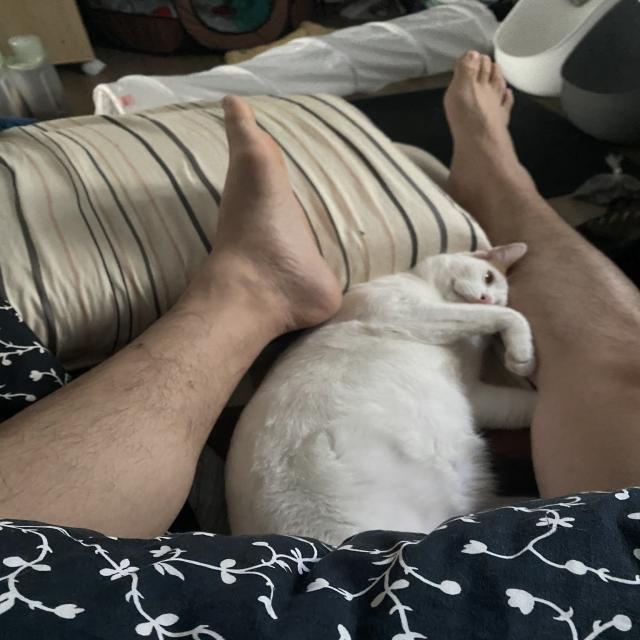cat1: (226, 241, 536, 545)
